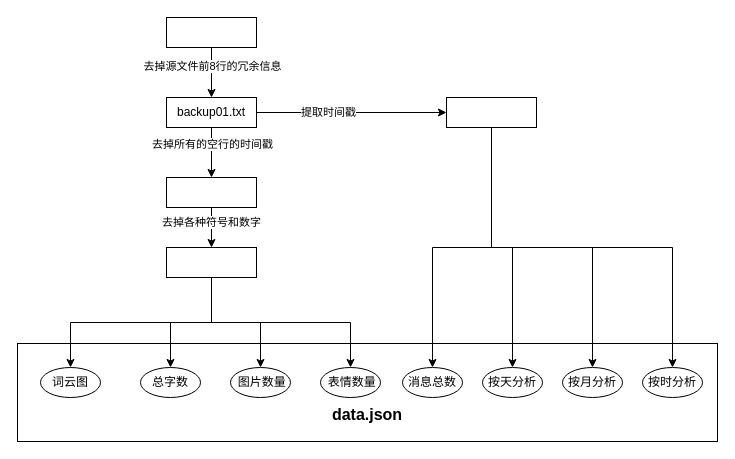
Image size: 735x459. Some labels were removed from this diagram. The centre of each missing label's shape, as x and y in pixels:
"backup02.txt" goes at [211,192].
"backup03.txt" goes at [211,262].
"timeline.txt" goes at [491,112].
"原文本" goes at [211,32].
